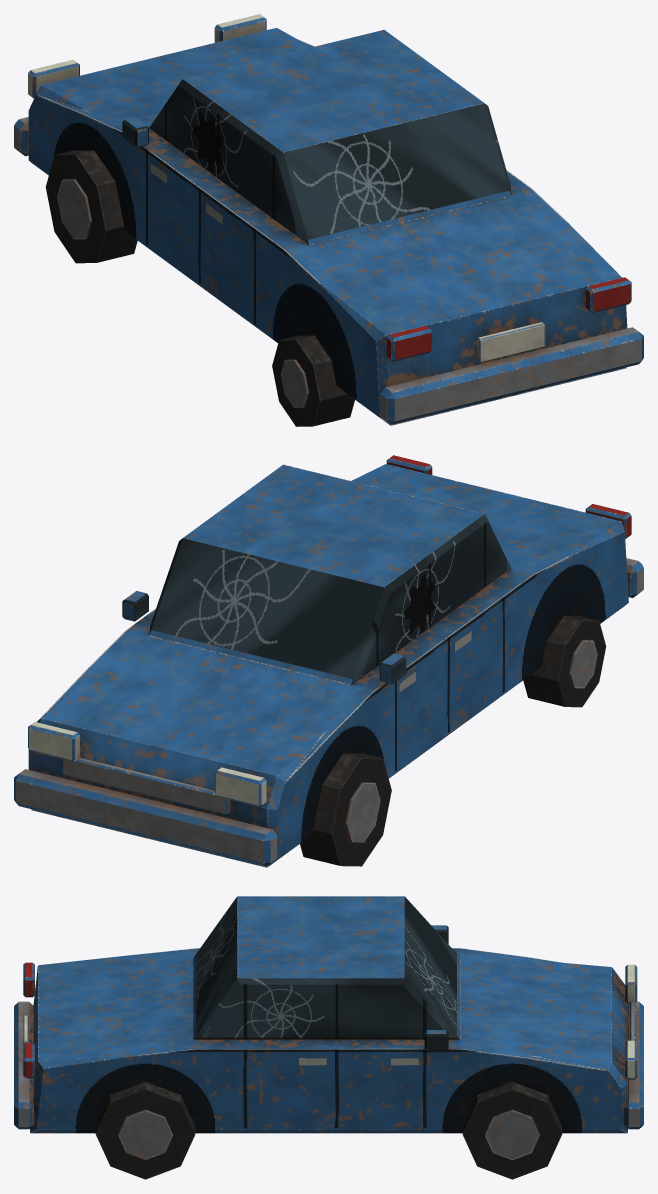
Rendered from Coche_Sedan_Oxidado.glb.
3 renders of one model, top to bottom at view 1: azimuth 30°, elevation 25°; view 2: azimuth 150°, elevation 25°; view 3: azimuth 270°, elevation 25°, orthographic. The views are drawn at different scales.
Parts seen in each view (by area): view 1: Coche_Sedan_Oxidado; view 2: Coche_Sedan_Oxidado; view 3: Coche_Sedan_Oxidado.
Part boxes in pixels (left/top/right/bottom): Coche_Sedan_Oxidado: left=14, top=14, right=643, bottom=426; Coche_Sedan_Oxidado: left=14, top=455, right=643, bottom=867; Coche_Sedan_Oxidado: left=14, top=896, right=643, bottom=1179.
Bounding box in the file's own units: 7 × 5.15 × 15.8.
Materials: 1 (1 with a texture image).
